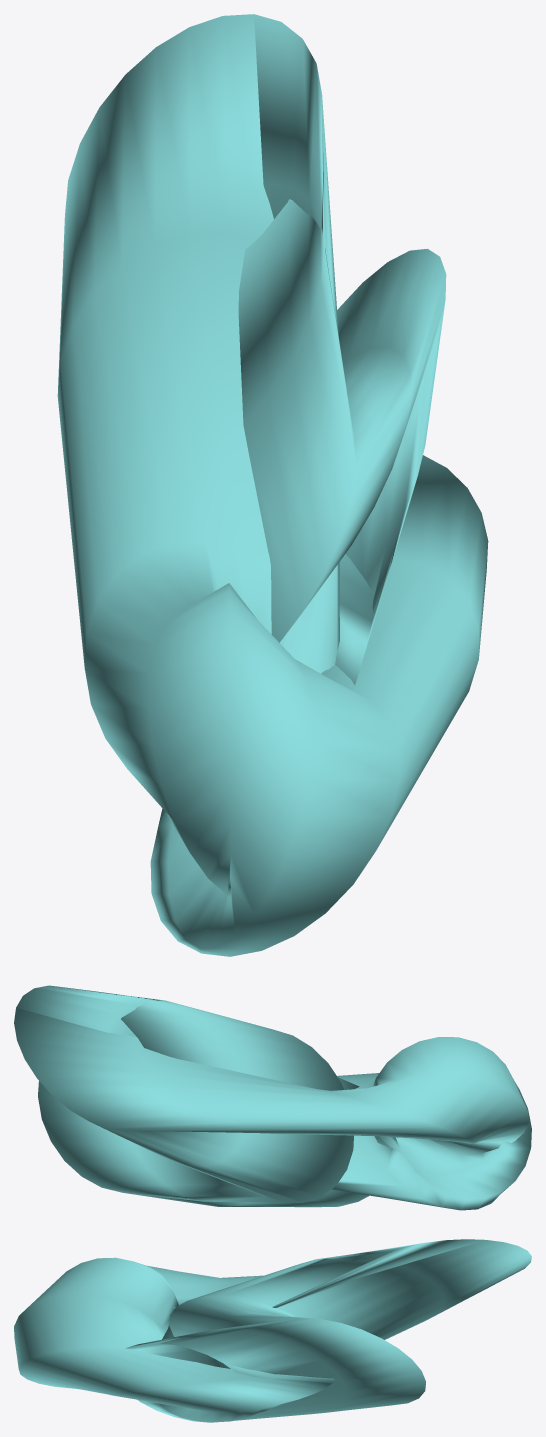
3 renders of one model, top to bottom at view 1: azimuth 30°, elevation 25°; view 2: azimuth 150°, elevation 25°; view 3: azimuth 270°, elevation 25°, orthographic. The views are drawn at different scales.
Visible parts, largest first — view 1: EC_CE; view 2: EC_CE; view 3: EC_CE.
Part boxes in pixels (bbox=[...]): EC_CE: bbox=[57, 14, 488, 956]; EC_CE: bbox=[14, 985, 531, 1210]; EC_CE: bbox=[14, 1239, 531, 1422].
Bounding box in the file's own units: 7.67 × 7.03 × 12.42.
